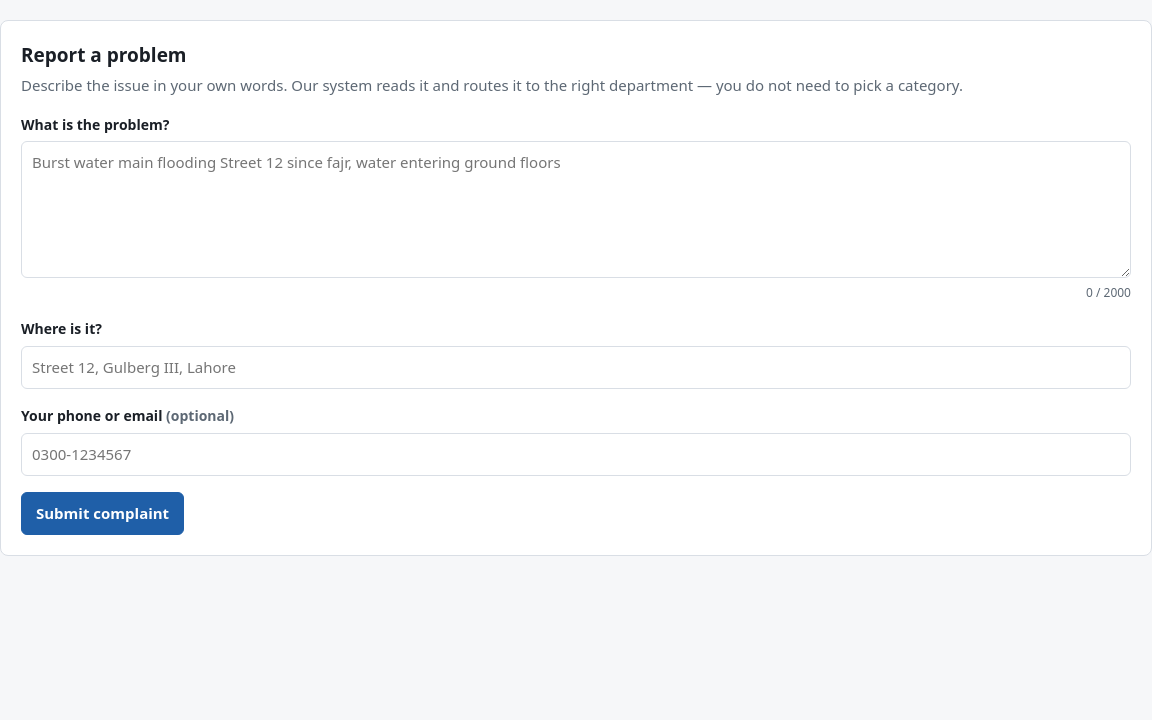
Scenario: SubmitPage › surfaces a 429 with the Retry-After value
The width and height of the screenshot is (1152, 720).
Type "Gutter is overflowing on the main road and water is standing for a week." into the text box labelled "What is the problem?" at point(576, 210), box [21, 141, 1131, 278]
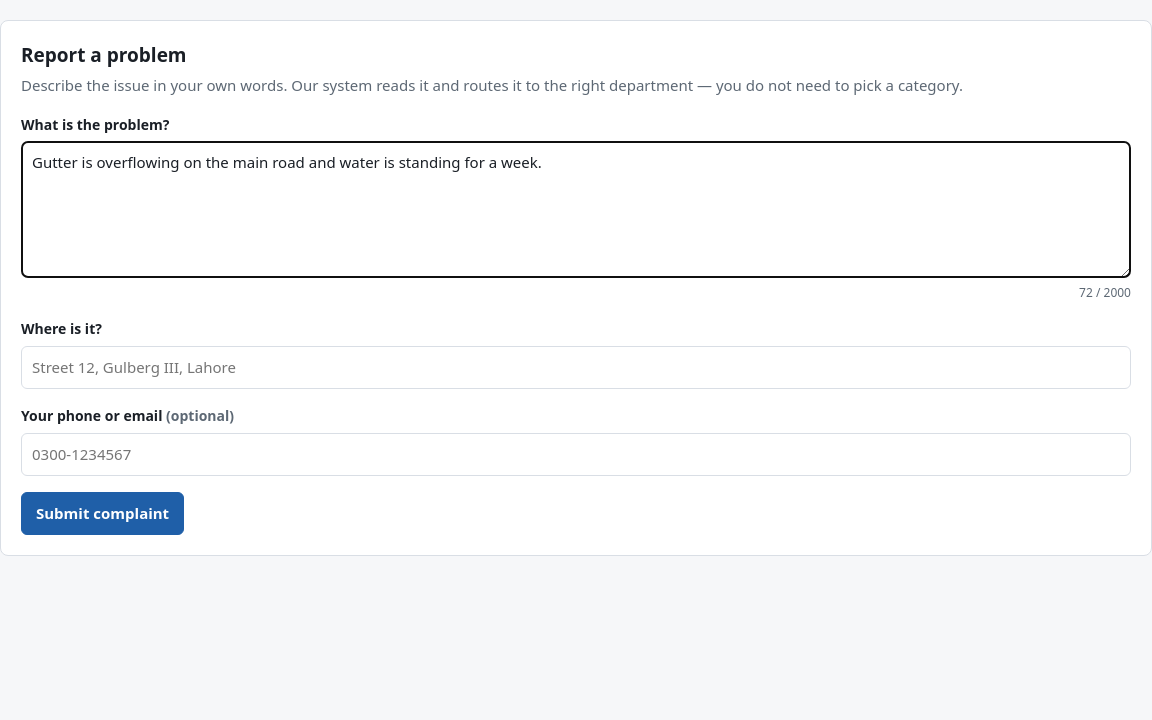
Type "Orangi Town, Karachi" into the field labelled "Where is it?" at point(576, 368), box [21, 346, 1131, 389]
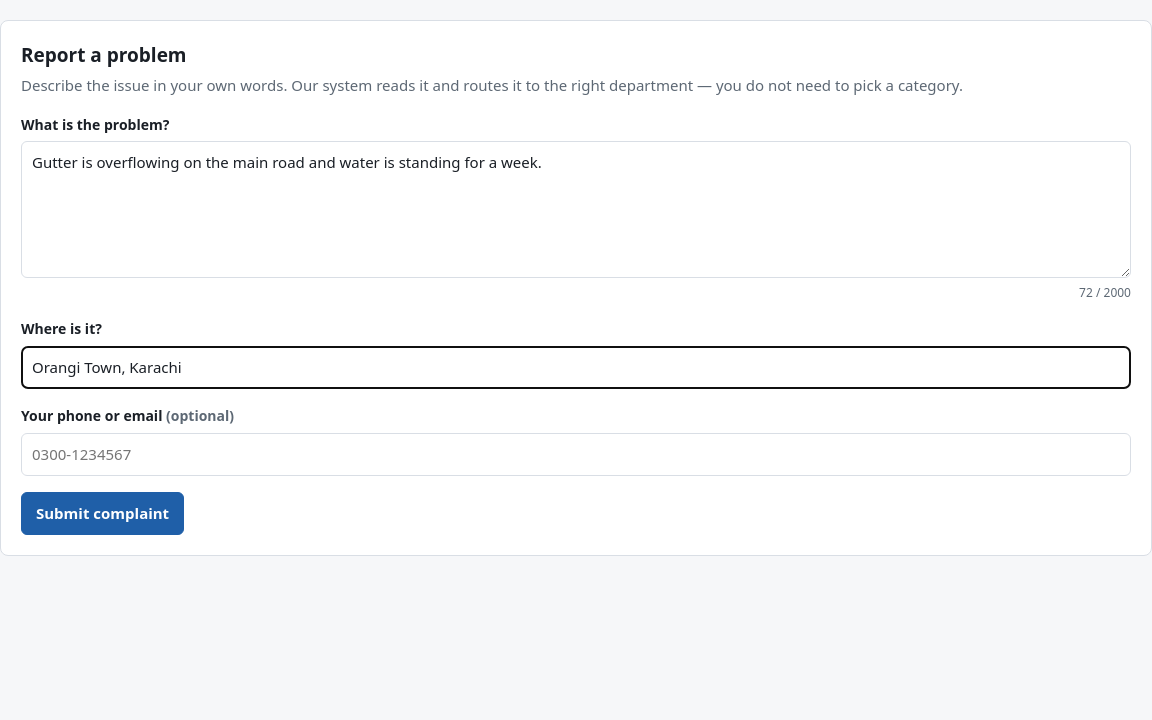
Click the button "Submit complaint" at point(103, 514), box [21, 492, 184, 535]
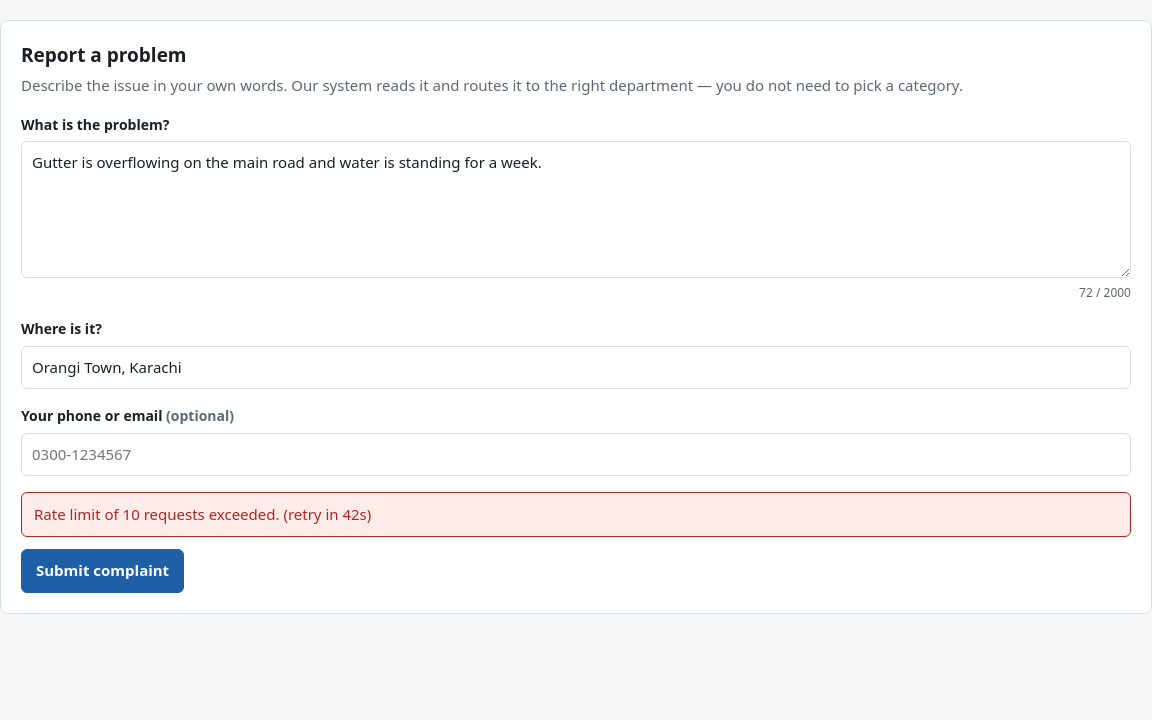
Expected: the text "Rate limit of 10 requests exceeded. (retry in 42s)" is shown, [21, 492, 1131, 537]
